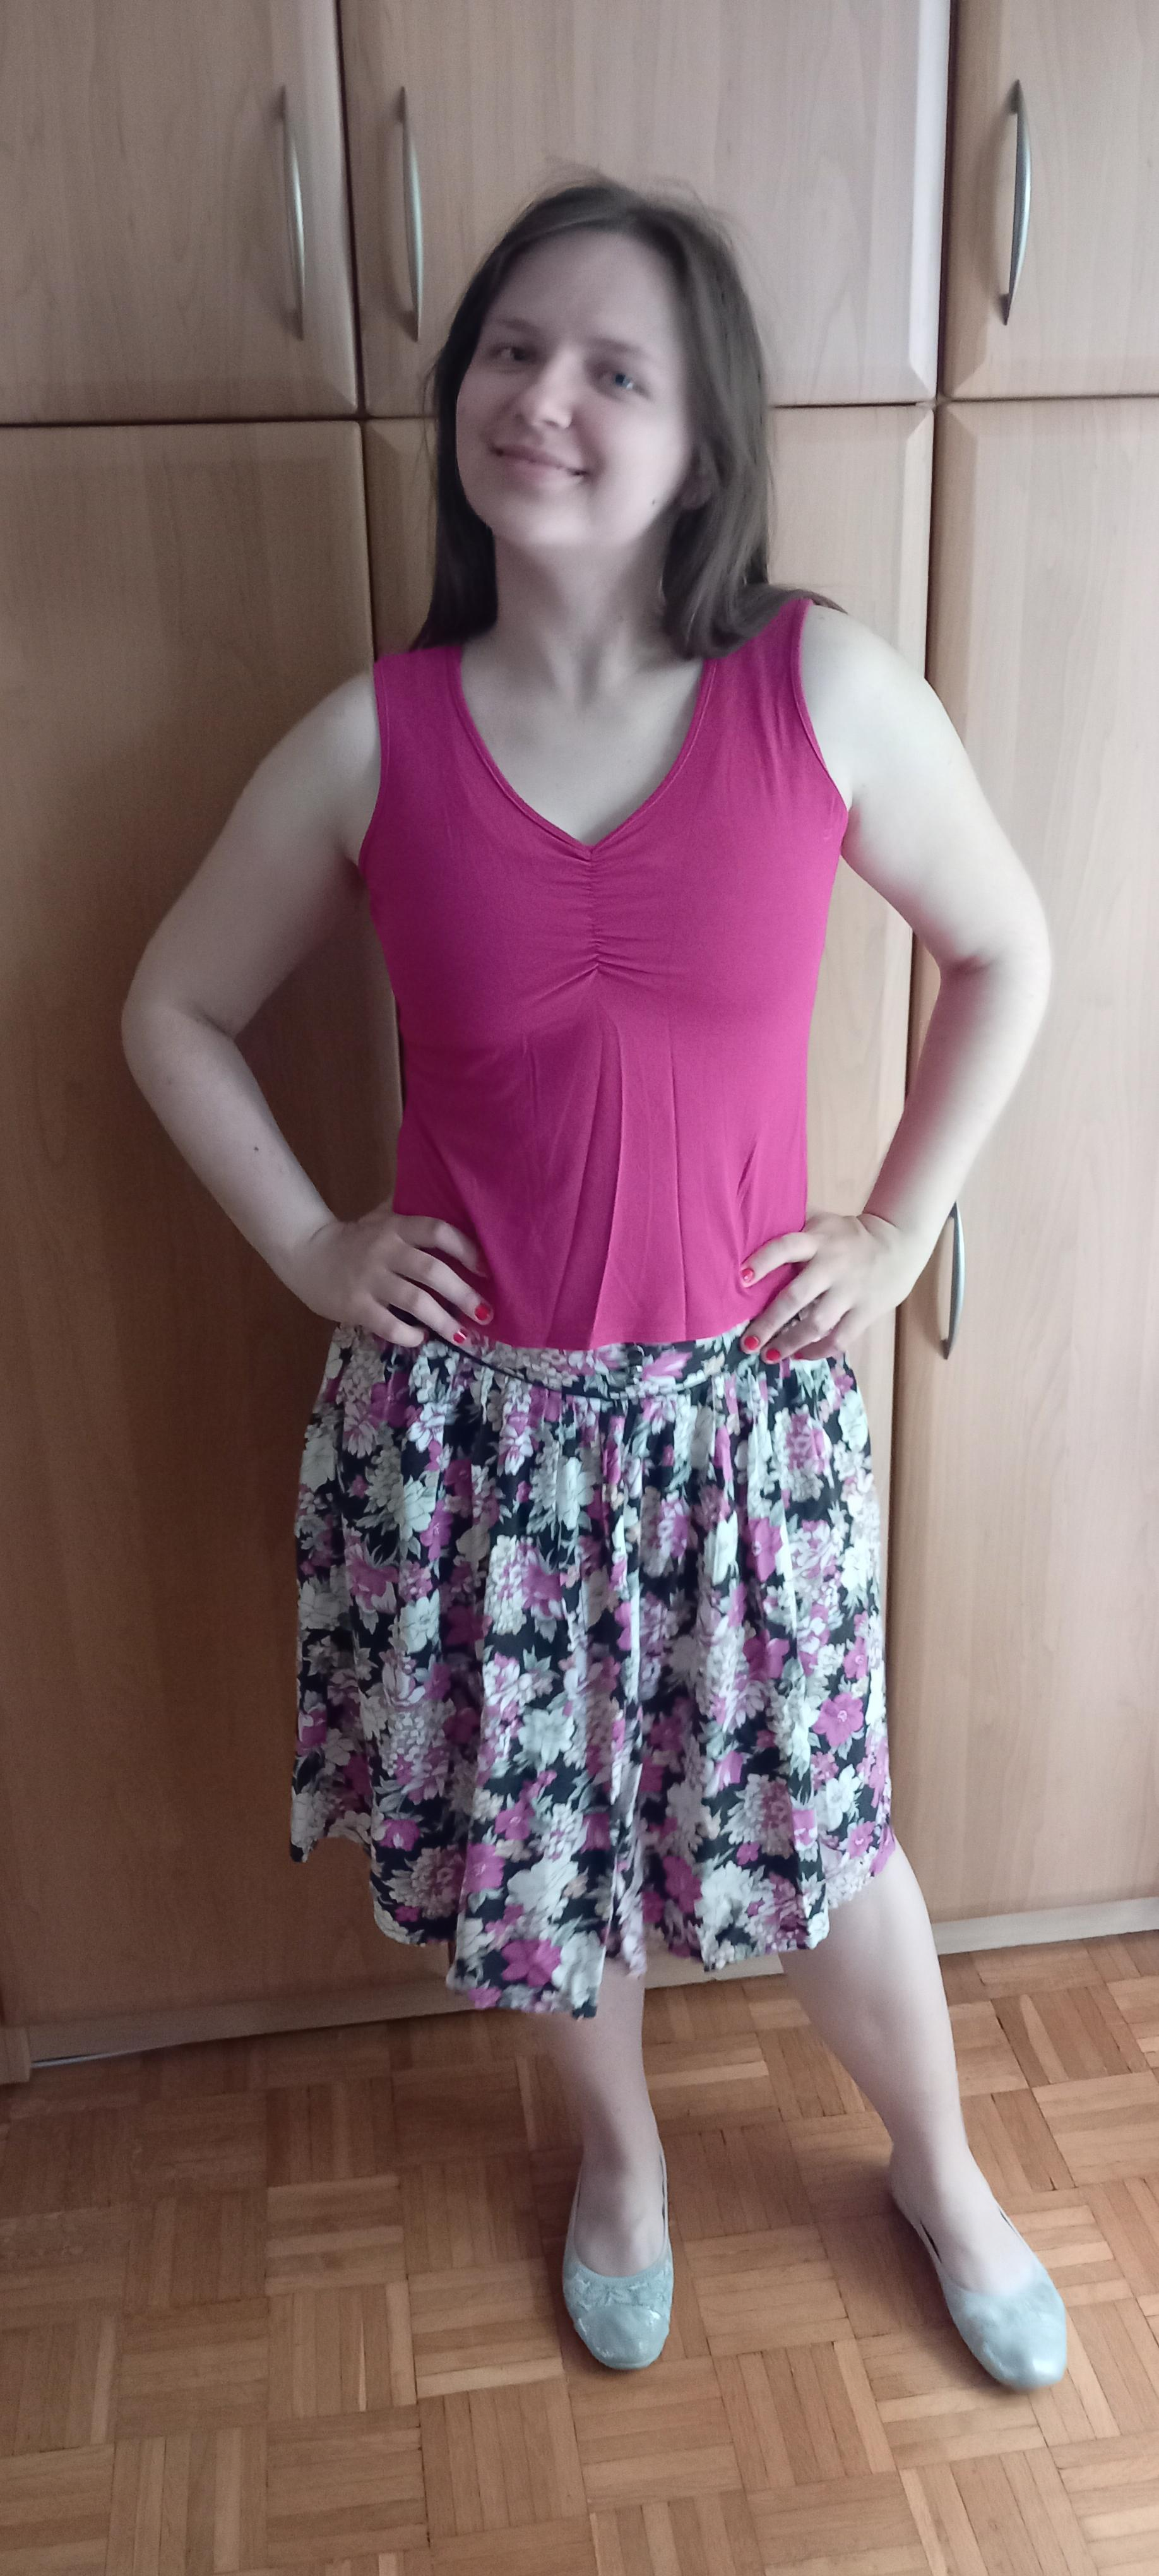Tshirt: (353, 598, 850, 1349)
skirt: (286, 1290, 886, 2021)
